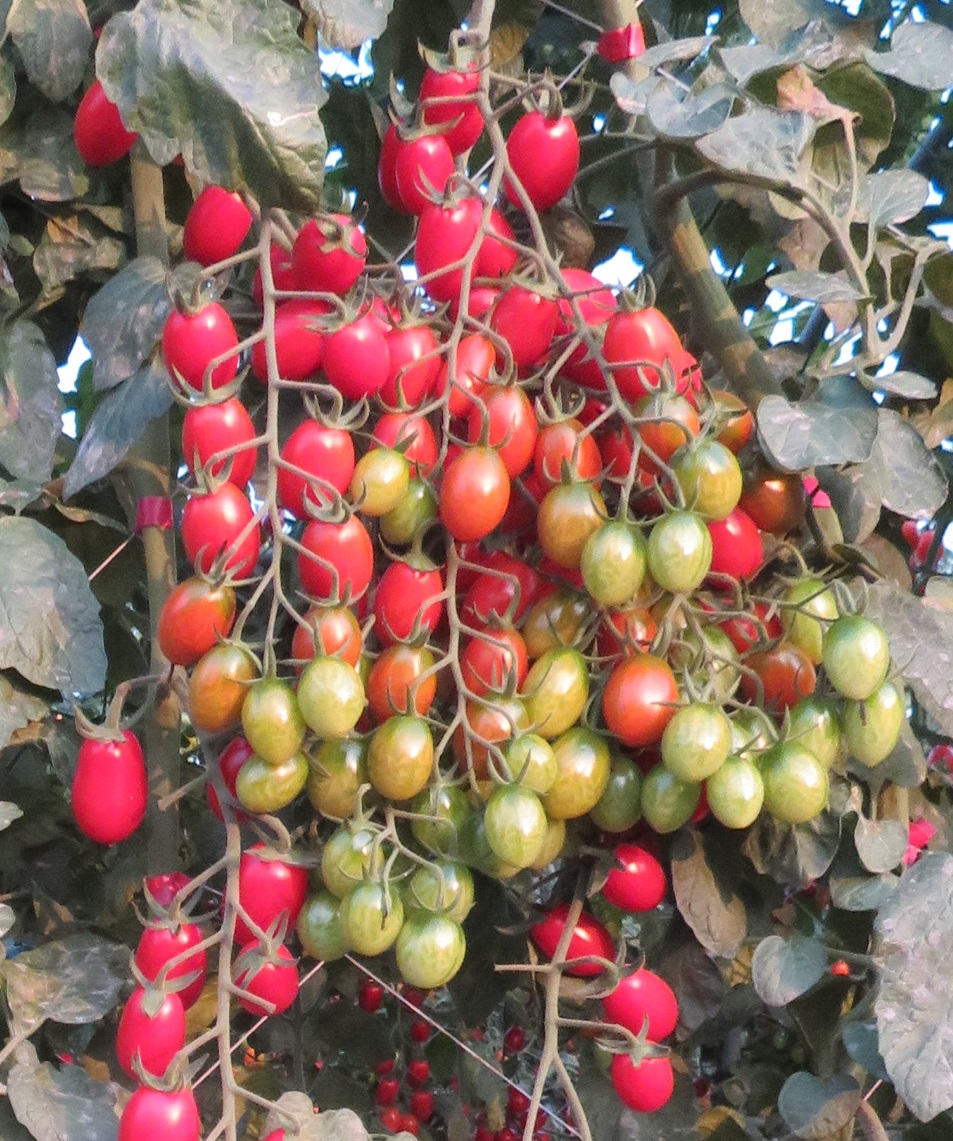green: (765, 738, 837, 824), (823, 611, 893, 699), (476, 801, 548, 882), (295, 664, 364, 744), (649, 511, 716, 592), (366, 717, 429, 803), (402, 924, 477, 995), (528, 649, 588, 737), (537, 486, 600, 569), (579, 526, 640, 611), (662, 708, 728, 781), (244, 677, 295, 764), (342, 889, 408, 956), (324, 842, 396, 903), (851, 690, 905, 766), (550, 738, 602, 816), (672, 457, 746, 511), (231, 761, 297, 819), (710, 764, 763, 835), (604, 757, 645, 839), (339, 457, 400, 512), (642, 770, 690, 830)
orange: (153, 573, 244, 668), (599, 656, 671, 748), (439, 449, 509, 543), (180, 646, 252, 737), (470, 387, 537, 474), (373, 647, 437, 724), (538, 416, 597, 481)
red: (491, 95, 582, 208), (69, 728, 150, 846), (173, 401, 259, 488), (115, 990, 191, 1086), (297, 515, 383, 599), (162, 301, 239, 393), (271, 428, 355, 512), (317, 303, 390, 397), (418, 193, 483, 297), (184, 488, 260, 571), (605, 979, 695, 1046), (75, 78, 141, 167), (250, 298, 318, 383), (175, 191, 249, 269), (602, 1050, 686, 1116), (230, 857, 296, 937), (122, 1073, 199, 1141), (288, 226, 360, 298), (488, 281, 550, 364), (538, 909, 612, 978), (389, 131, 449, 212), (602, 845, 664, 921), (386, 328, 445, 407), (238, 939, 300, 1013), (375, 566, 444, 631), (600, 309, 651, 390), (705, 509, 763, 578), (136, 923, 197, 988)
